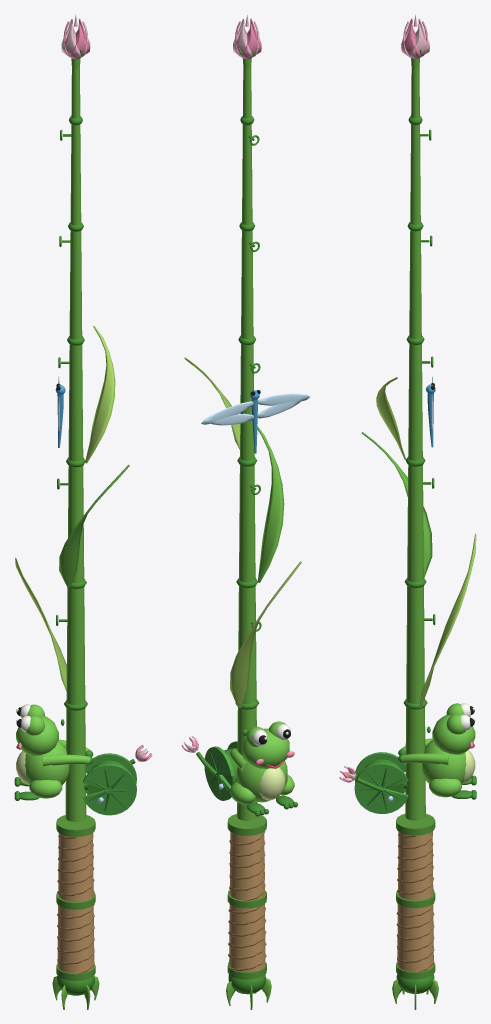
File: FrogRod_before_frogSkin_20261119.glb
3 renders of one model, left to right at view 1: azimuth 90°, elevation 25°; view 2: azimuth 210°, elevation 25°; view 3: azimuth 270°, elevation 25°, orthographic.
Parts seen in each view (by area): view 1: FrogRod__Reed, FrogRod__Grip, FrogRod__Frog, FrogRod__LilyPad, FrogRod__ReedLight, FrogRod__ReedDark, FrogRod__Cord, FrogRod__GripDark, FrogRod__LotusLight, FrogRod__Lotus, FrogRod__FrogDark; view 2: FrogRod__Reed, FrogRod__Grip, FrogRod__Frog, FrogRod__ReedDark, FrogRod__ReedLight, FrogRod__Wing, FrogRod__Cord, FrogRod__GripDark, FrogRod__LilyPad, FrogRod__FrogBelly, FrogRod__LotusLight, FrogRod__Lotus (+3 smaller); view 3: FrogRod__Reed, FrogRod__Grip, FrogRod__Frog, FrogRod__LilyPad, FrogRod__ReedDark, FrogRod__ReedLight, FrogRod__Cord, FrogRod__GripDark, FrogRod__LotusLight, FrogRod__Lotus, FrogRod__FrogDark.
Boxes of the visible parts, bbox=[...] form: FrogRod__Reed: bbox=[52, 42, 129, 1009]; FrogRod__Grip: bbox=[57, 833, 94, 973]; FrogRod__Frog: bbox=[16, 704, 90, 798]; FrogRod__LilyPad: bbox=[83, 753, 136, 815]; FrogRod__ReedLight: bbox=[15, 325, 115, 691]; FrogRod__ReedDark: bbox=[56, 116, 135, 995]; FrogRod__Cord: bbox=[56, 815, 95, 980]; FrogRod__GripDark: bbox=[57, 833, 94, 973]; FrogRod__LotusLight: bbox=[61, 14, 152, 761]; FrogRod__Lotus: bbox=[63, 18, 151, 761]; FrogRod__FrogDark: bbox=[14, 719, 93, 800]; FrogRod__Reed: bbox=[226, 47, 284, 1009]; FrogRod__Grip: bbox=[229, 832, 265, 972]; FrogRod__Frog: bbox=[229, 721, 294, 804]; FrogRod__ReedDark: bbox=[196, 116, 265, 994]; FrogRod__ReedLight: bbox=[184, 357, 301, 707]; FrogRod__Wing: bbox=[201, 393, 309, 425]; FrogRod__Cord: bbox=[227, 814, 266, 979]; FrogRod__GripDark: bbox=[228, 831, 266, 970]; FrogRod__LilyPad: bbox=[204, 741, 237, 800]; FrogRod__FrogBelly: bbox=[259, 767, 285, 800]; FrogRod__LotusLight: bbox=[183, 15, 259, 752]; FrogRod__Lotus: bbox=[181, 18, 261, 752]; FrogRod__Reed: bbox=[361, 42, 438, 1009]; FrogRod__Grip: bbox=[397, 831, 433, 971]; FrogRod__Frog: bbox=[401, 703, 475, 797]; FrogRod__LilyPad: bbox=[354, 752, 408, 813]; FrogRod__ReedDark: bbox=[356, 116, 435, 993]; FrogRod__ReedLight: bbox=[376, 377, 476, 708]; FrogRod__Cord: bbox=[396, 814, 435, 979]; FrogRod__GripDark: bbox=[396, 831, 434, 972]; FrogRod__LotusLight: bbox=[339, 14, 429, 782]; FrogRod__Lotus: bbox=[339, 18, 427, 782]; FrogRod__FrogDark: bbox=[398, 726, 476, 799].
Size of the model in its own units: 0.7567 by 6.52 by 0.8253.
